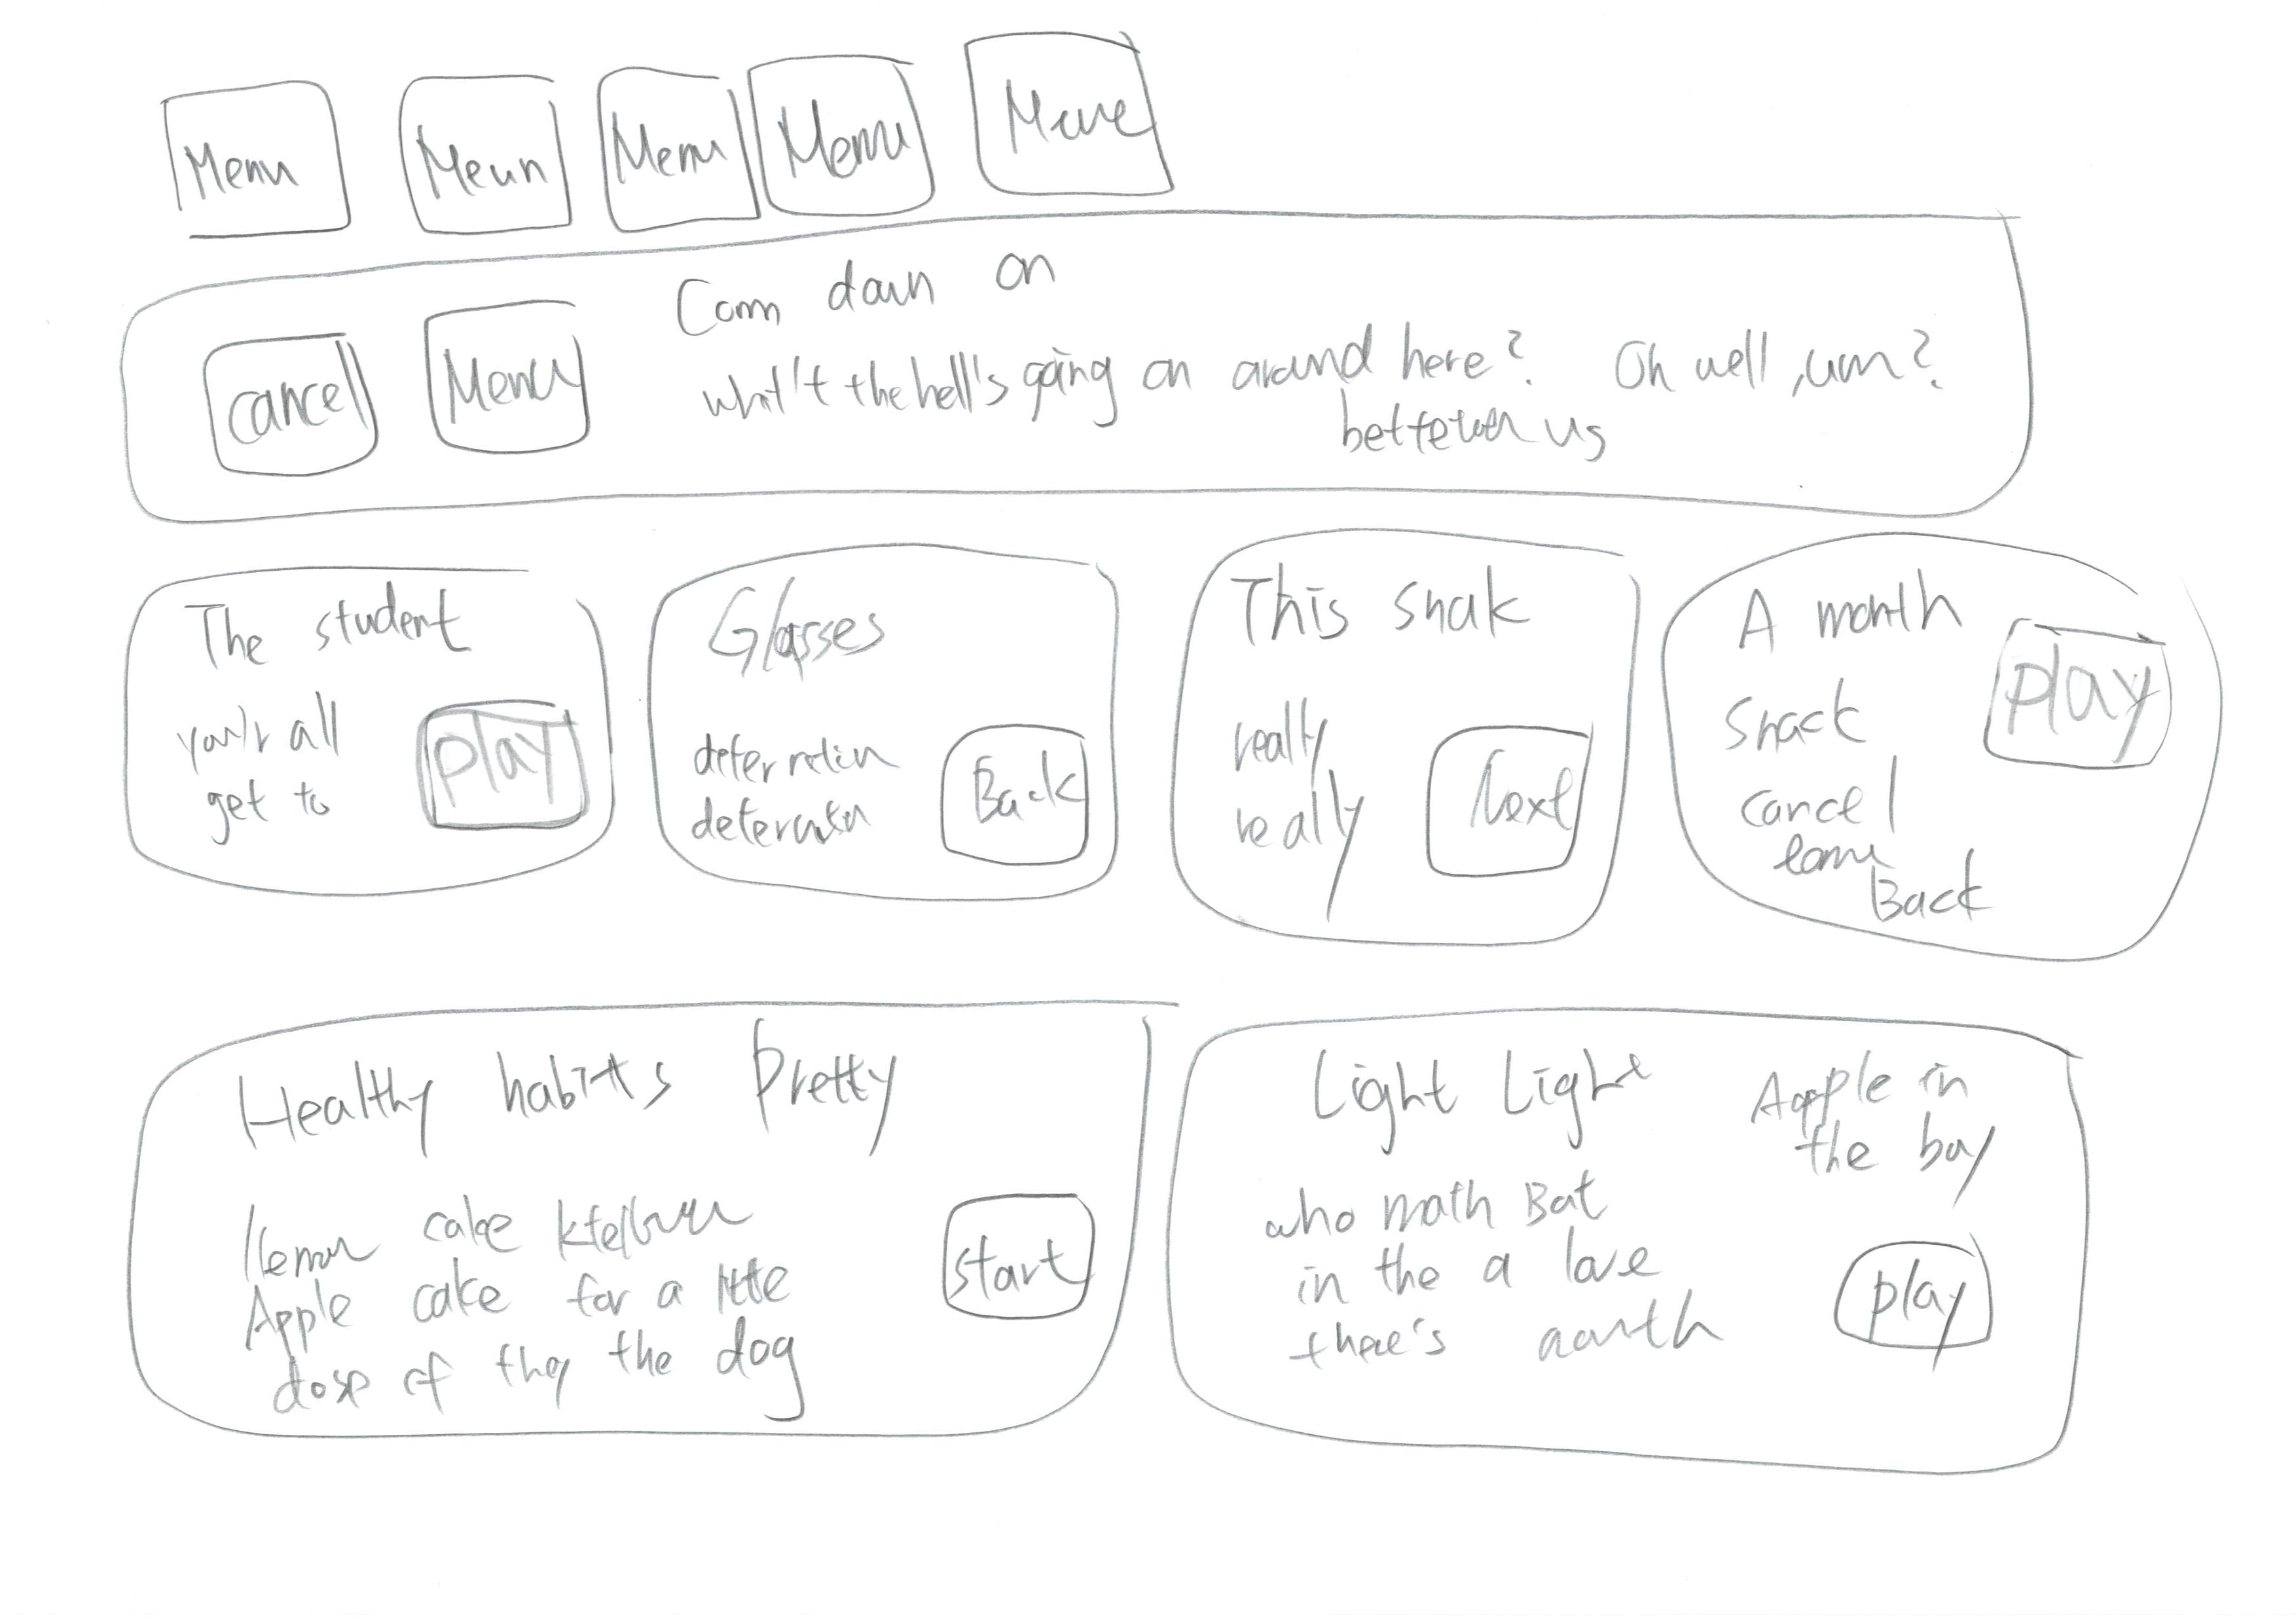back: (923, 692, 1132, 875)
cancel: (163, 302, 392, 489)
double: (109, 972, 1188, 1490), (1136, 970, 2164, 1512)
menu: (946, 16, 1201, 221), (128, 58, 366, 264), (373, 47, 580, 251), (733, 35, 953, 227), (563, 40, 767, 246), (392, 297, 614, 469)
next: (1394, 710, 1614, 896)
play: (1955, 603, 2213, 816), (381, 680, 610, 859), (1807, 1223, 2029, 1390)
quadruple: (1647, 506, 2291, 988), (1102, 511, 1665, 975), (592, 527, 1137, 951), (88, 520, 631, 944)
row: (18, 986, 2296, 1568), (18, 492, 2296, 1004), (18, 200, 2296, 524), (28, 11, 2275, 246)
single: (65, 188, 2201, 540)
small-title: (230, 1023, 898, 1160), (1313, 1018, 1646, 1155), (1229, 569, 1531, 659), (1719, 562, 1950, 671), (183, 589, 494, 663), (675, 262, 1064, 318), (714, 584, 897, 692)
start: (926, 1165, 1134, 1355)
text: (700, 320, 1964, 473), (202, 1186, 853, 1418), (1250, 1169, 1726, 1388), (1721, 682, 1927, 893), (163, 689, 366, 870), (700, 705, 904, 877), (1740, 1049, 1990, 1185), (1229, 691, 1380, 909), (1832, 856, 2046, 926)
